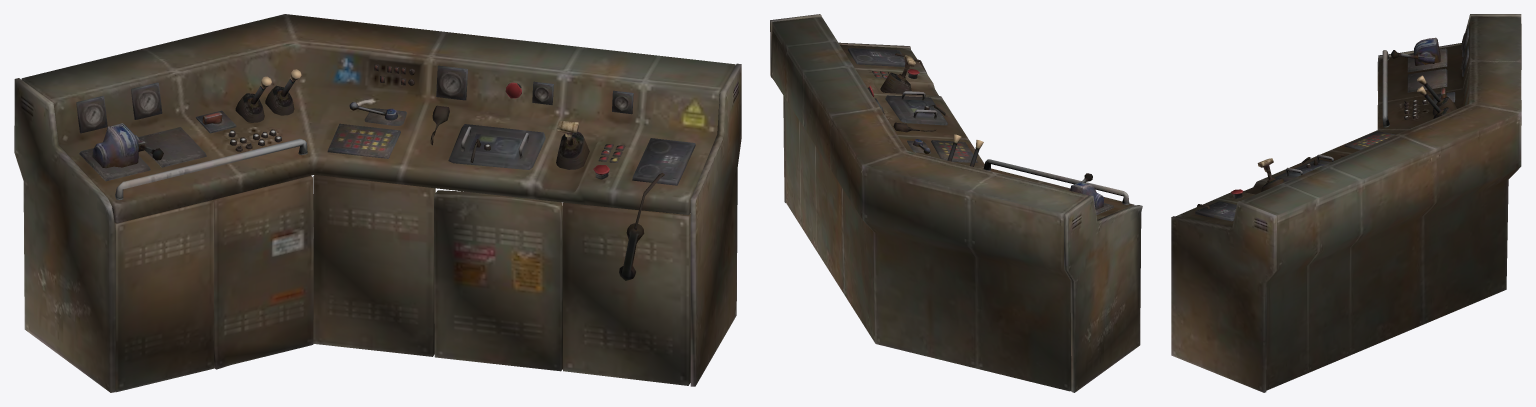
Rendered from excontrolpanel.glb.
3 views of the same model, side by side, from view 1: azimuth 30°, elevation 25°; view 2: azimuth 150°, elevation 25°; view 3: azimuth 270°, elevation 25° (orthographic). The views are drawn at different scales.
Parts seen in each view (by area): view 1: ExControlPanel; view 2: ExControlPanel; view 3: ExControlPanel.
Boxes of the visible parts, <box> form: ExControlPanel: <box>14,14,741,392</box>; ExControlPanel: <box>770,14,1142,392</box>; ExControlPanel: <box>1171,14,1521,392</box>.
Bounding box in the file's own units: 2.44 × 1.04 × 1.77.
Materials: 1 (1 with a texture image).
